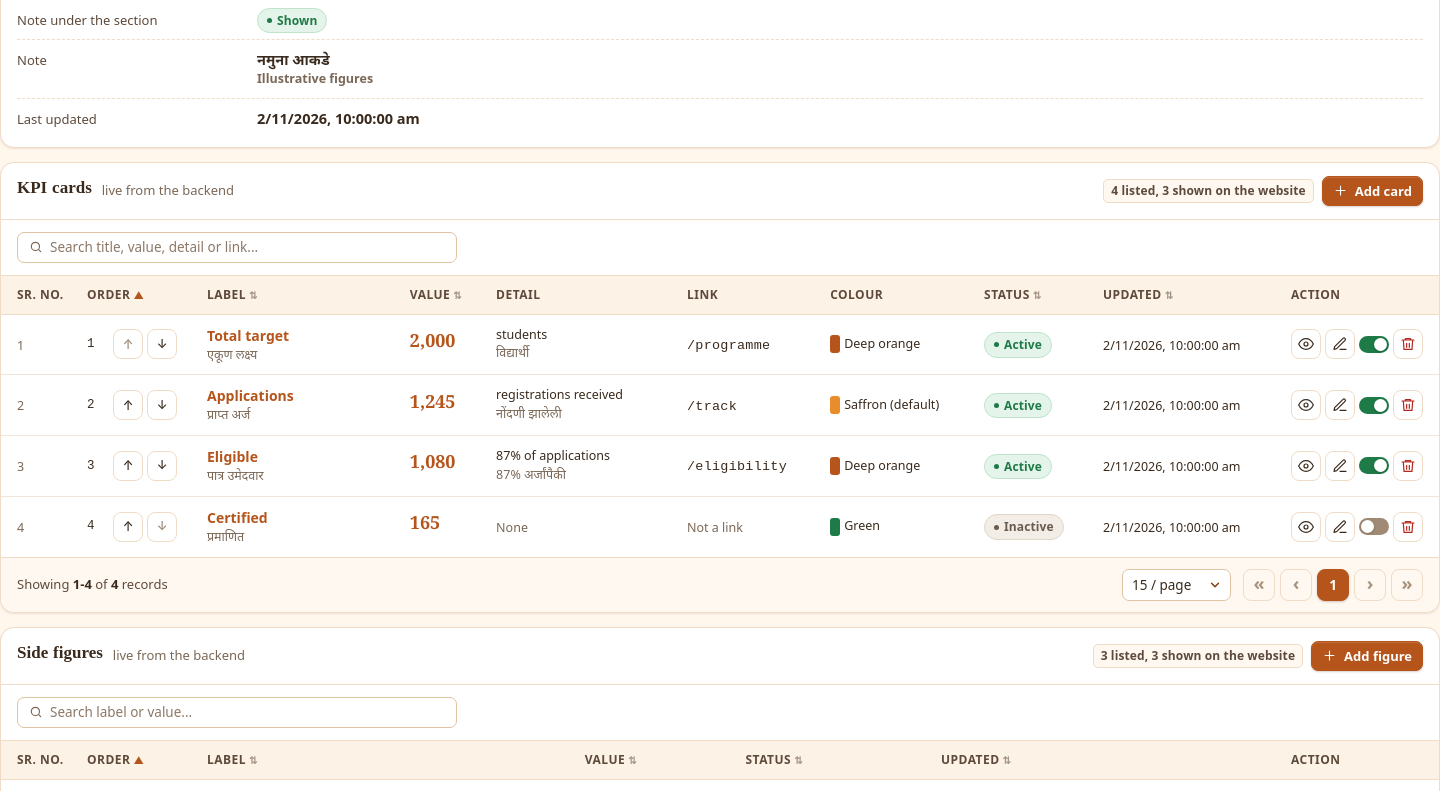
Live Dashboard tab › deactivates and deletes the card named in the dialog, by id
(page scrolled)
Expected: the text "Applications" is shown, [207, 386, 294, 405]
Click the switch named "Applications: active": (1374, 405) [1359, 397, 1389, 414]
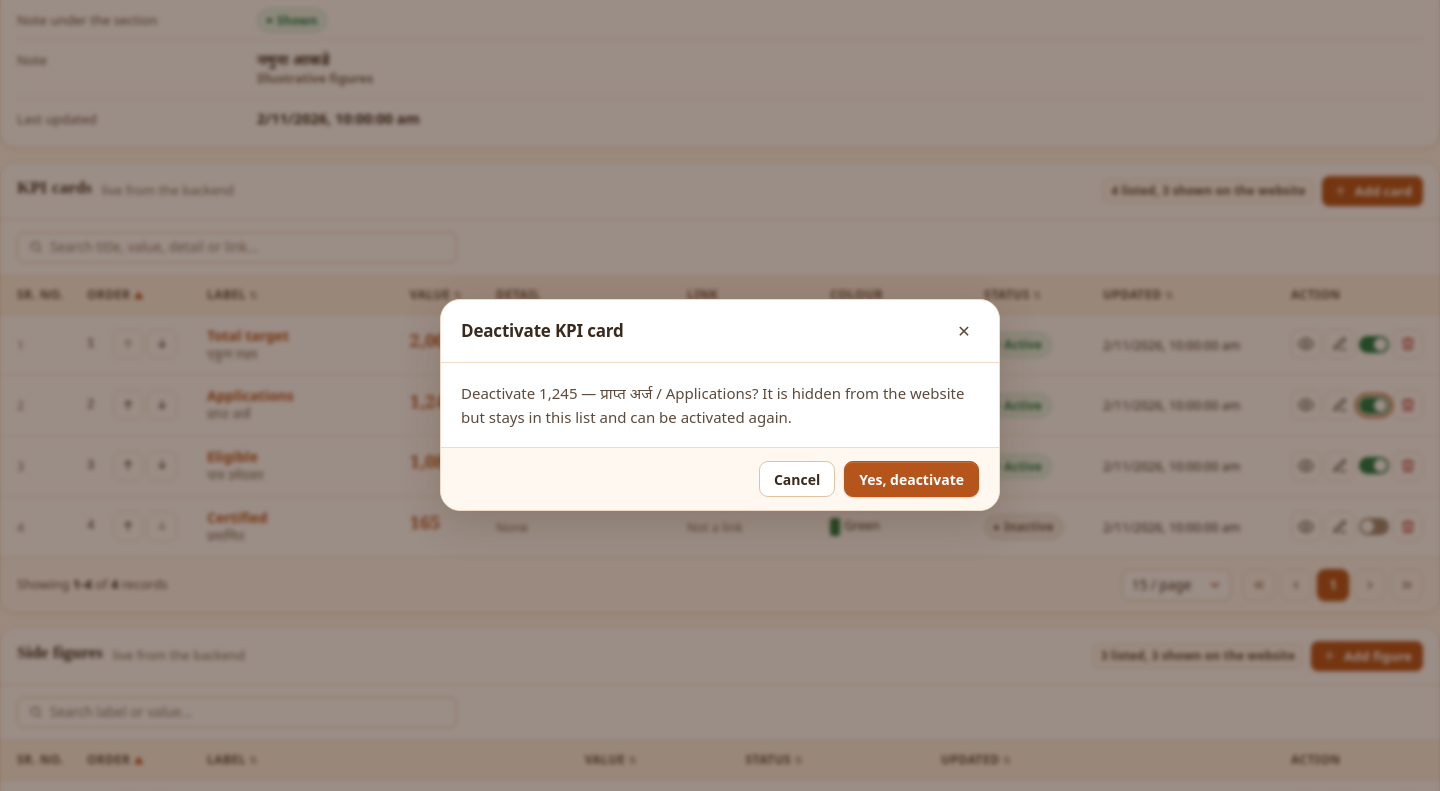
Now the dialog shows "Deactivate 1,245 — प्राप्त अर्ज / Applications?", box [461, 383, 964, 427]
Click the button "Yes, deactivate": (912, 479) [844, 461, 979, 497]
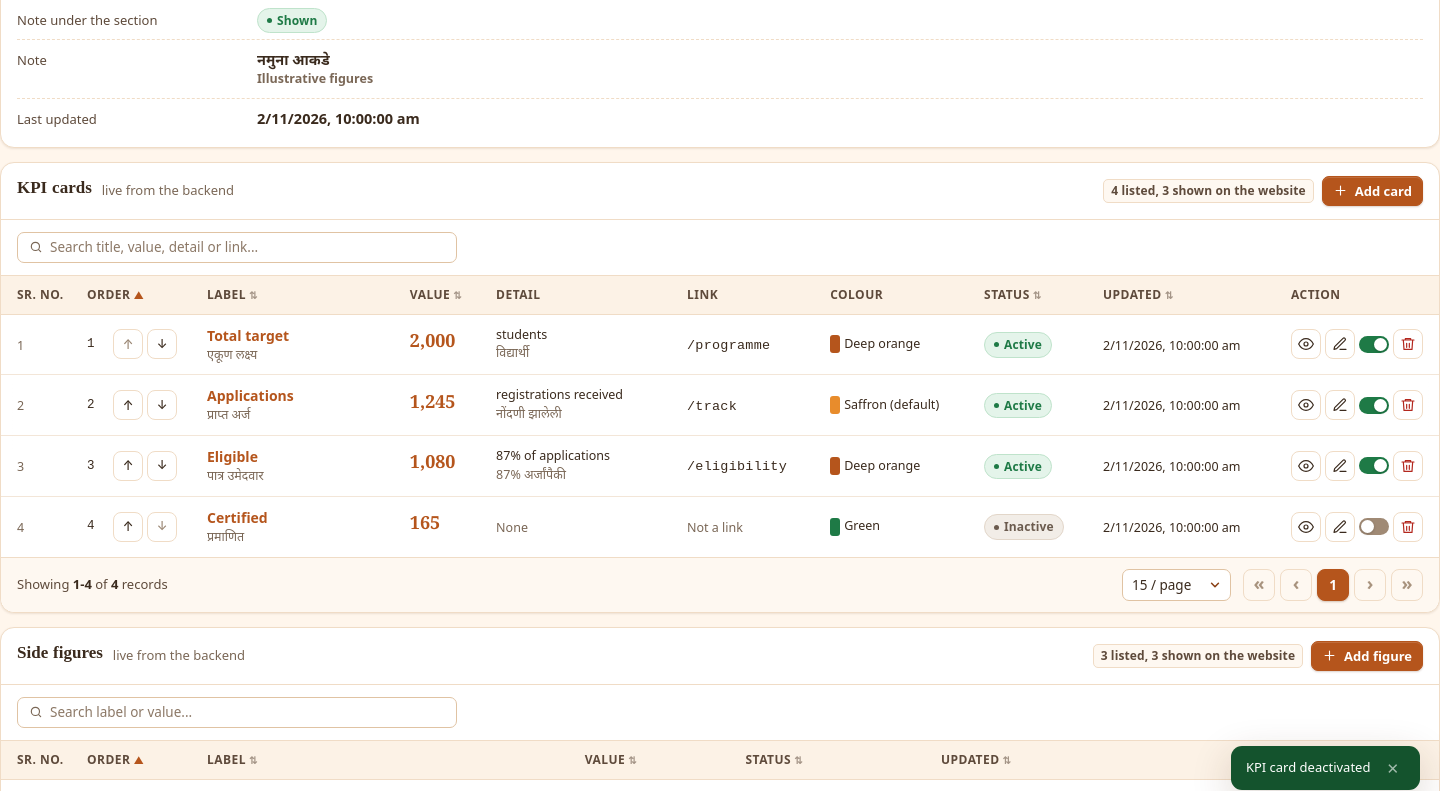
Now the element with id "toast-root" shows "KPI card deactivated", box [1246, 758, 1370, 776]
Click the button named "Delete Eligible": (1408, 466) [1393, 451, 1423, 481]
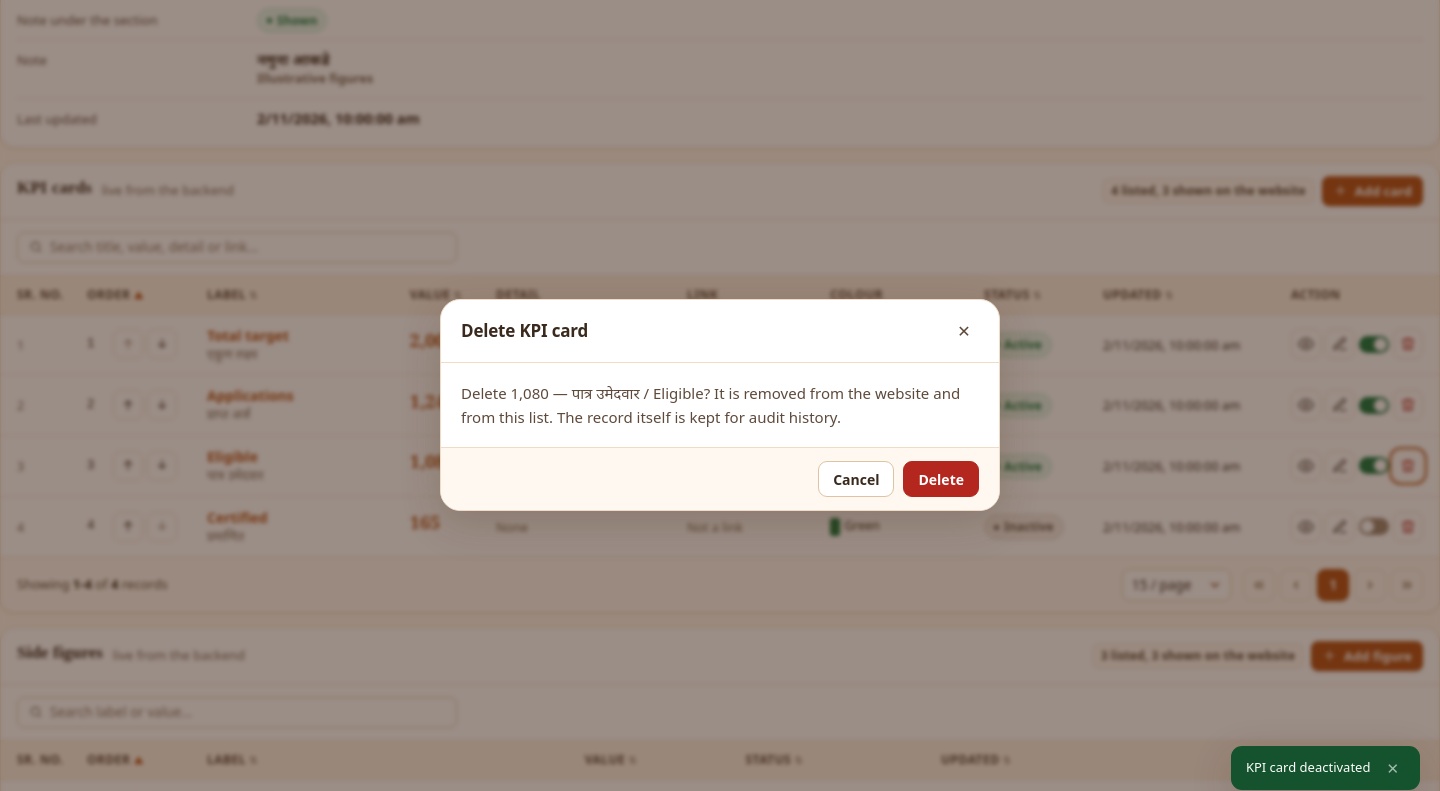
Now the dialog shows "Delete 1,080 — पात्र उमेदवार / Eligible?", box [461, 383, 960, 427]
Click the button "Delete": (941, 479) [904, 461, 979, 497]
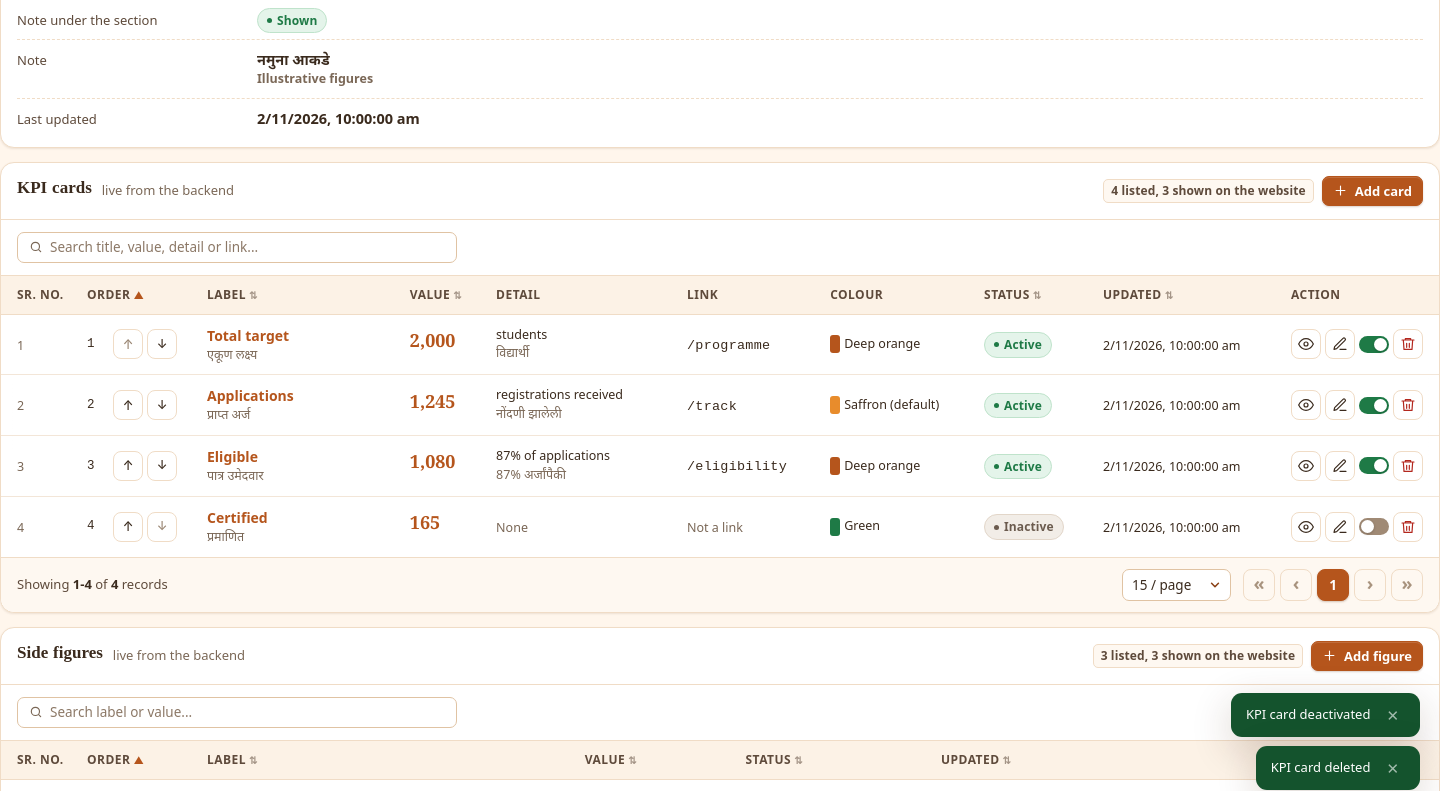
Now the element with id "toast-root" shows "KPI card deleted", box [1271, 758, 1370, 776]
